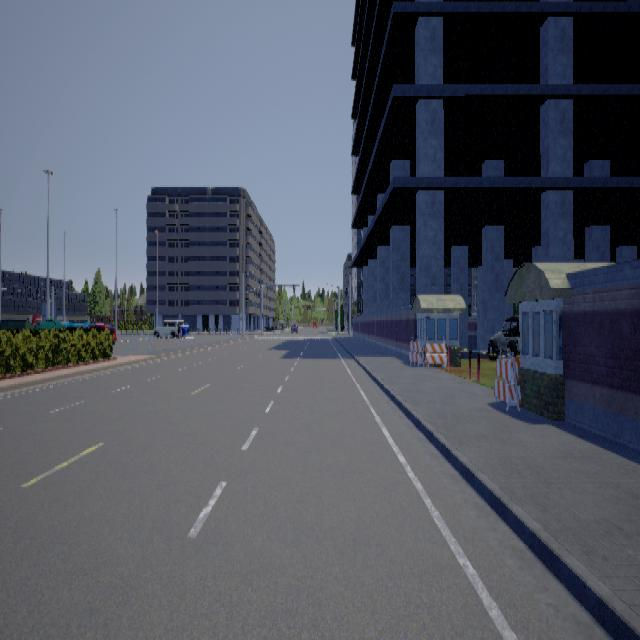vehicle: (487, 313, 519, 359), (152, 318, 188, 337)
